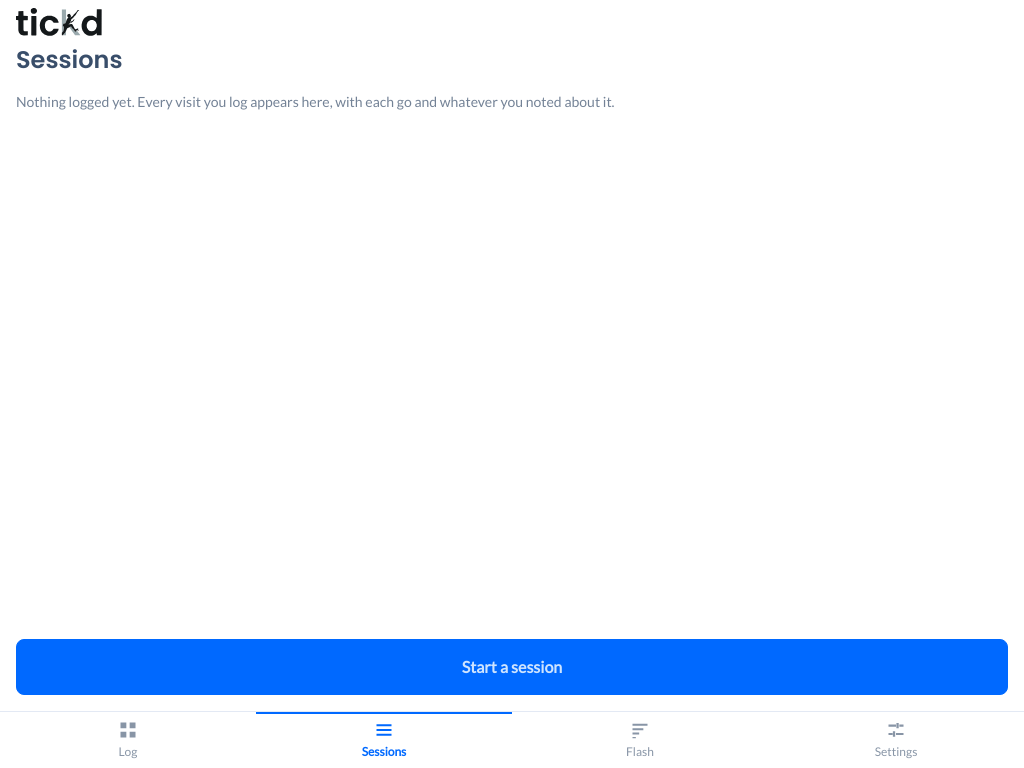
Test: the empty state › offers a way to start one
The image size is (1024, 768).
Step 1. Click the link "Start a session" → {"x": 512, "y": 667}, box [16,639,1008,695]
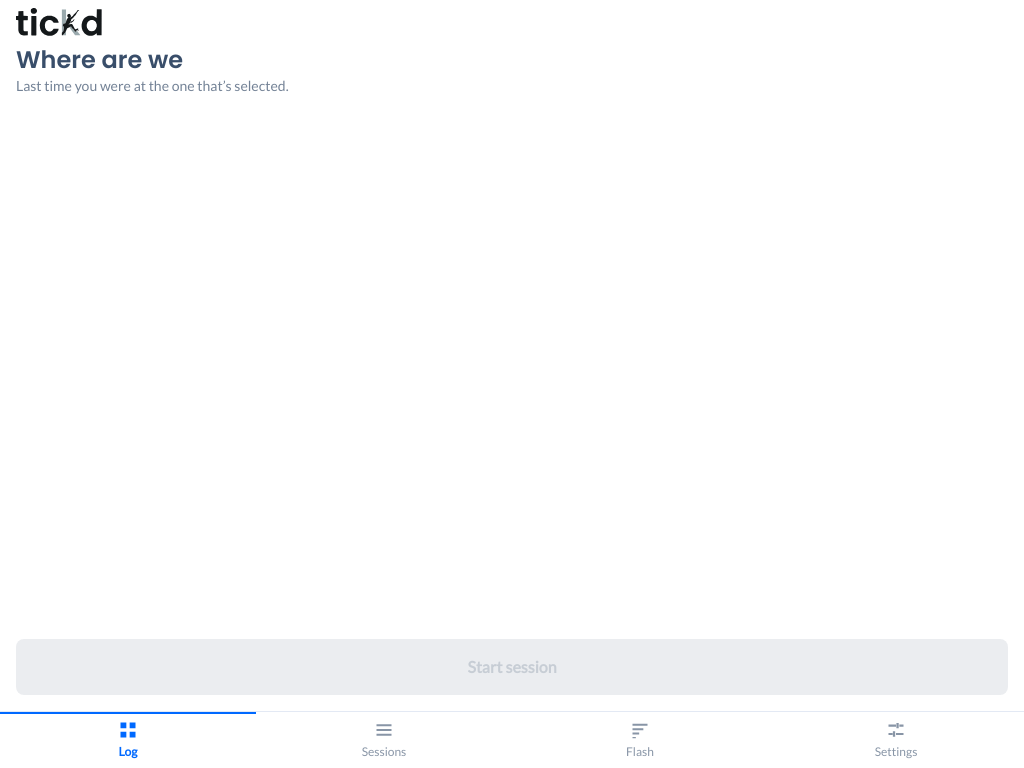
Now the heading "Where are we" is shown, box [16,43,183,76]
